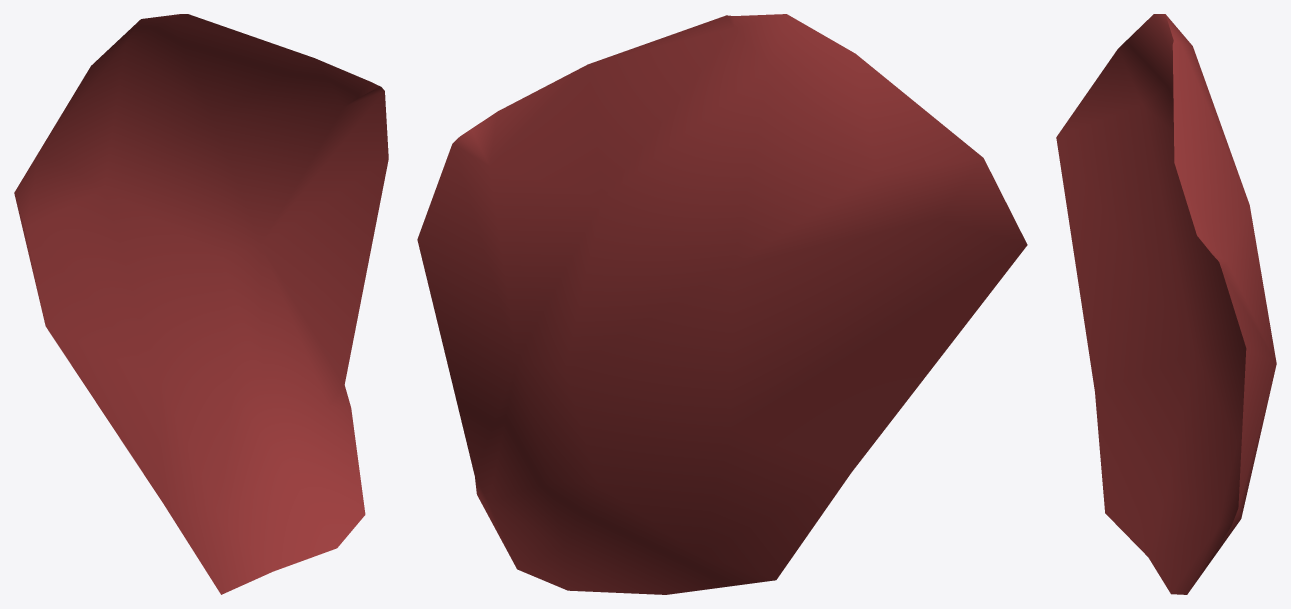
The model's file is longissimus-thoracis-muscle-e7r.glb.
The picture shows the model from 3 angles, left to right: view 1: azimuth 30°, elevation 25°; view 2: azimuth 150°, elevation 25°; view 3: azimuth 270°, elevation 25°; orthographic projection. The views are drawn at different scales.
Visible parts, largest first — view 1: Longissimus thoracis muscle.e7r; view 2: Longissimus thoracis muscle.e7r; view 3: Longissimus thoracis muscle.e7r.
Boxes of the visible parts, <box> form: Longissimus thoracis muscle.e7r: <box>14,14,388,594</box>; Longissimus thoracis muscle.e7r: <box>417,14,1027,594</box>; Longissimus thoracis muscle.e7r: <box>1056,14,1276,594</box>.
Size of the model in its own units: 0.00843 by 0.0103 by 0.00414.
